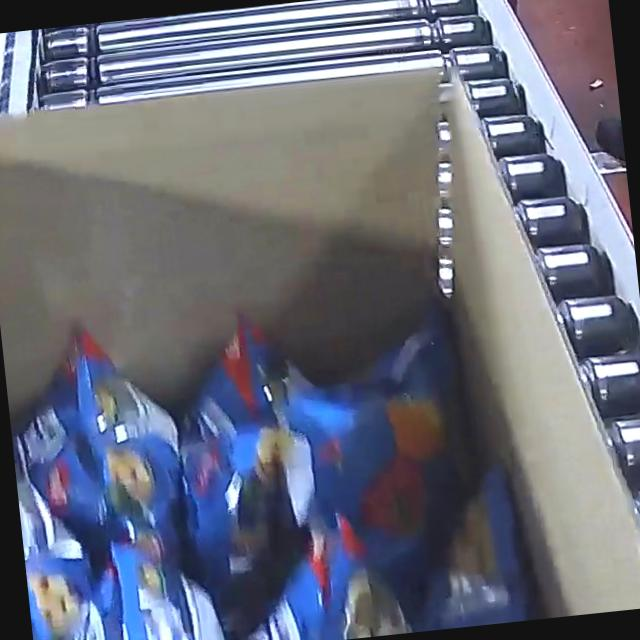paprika: (0, 277, 530, 640)
